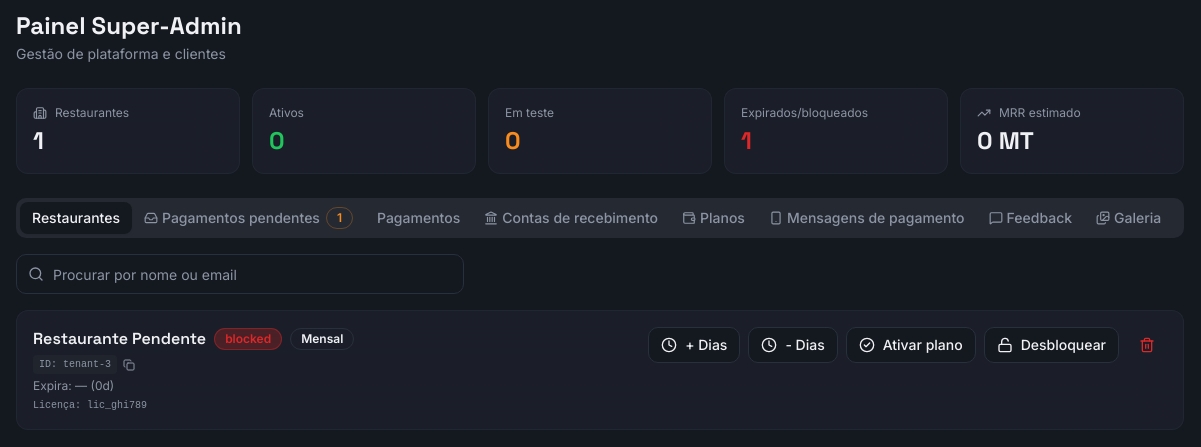
Scenario: SuperAdminPage — pagamentos pendentes › mostra o comprovativo pendente com a referência submetida
Click the tab "Pagamentos pendentes 1". click: [248, 218]
box: [132,201,365,235]
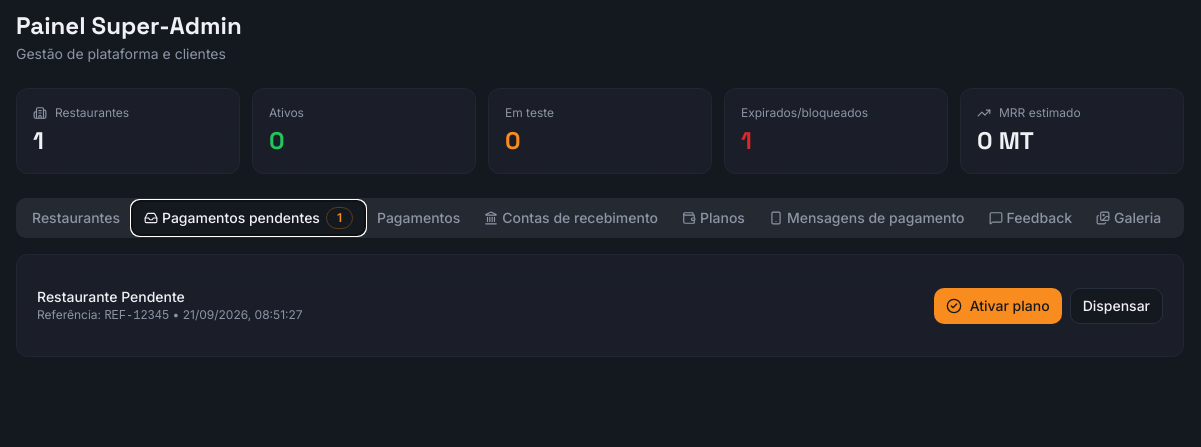
Expected: the text "Restaurante Pendente" is shown, [37,288,185,305]
Result: the text "REF-12345" is shown at [104,309,169,323]
